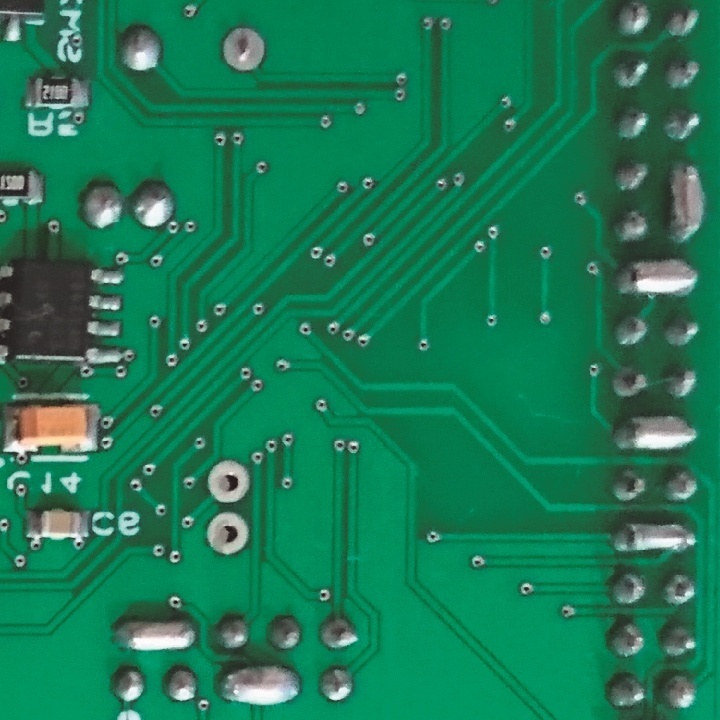F: (202, 458, 255, 508), (219, 26, 272, 75), (200, 509, 253, 558)
P: (610, 409, 701, 460), (613, 254, 699, 306), (216, 661, 308, 708), (107, 614, 200, 660), (611, 519, 701, 561), (666, 162, 707, 249)
